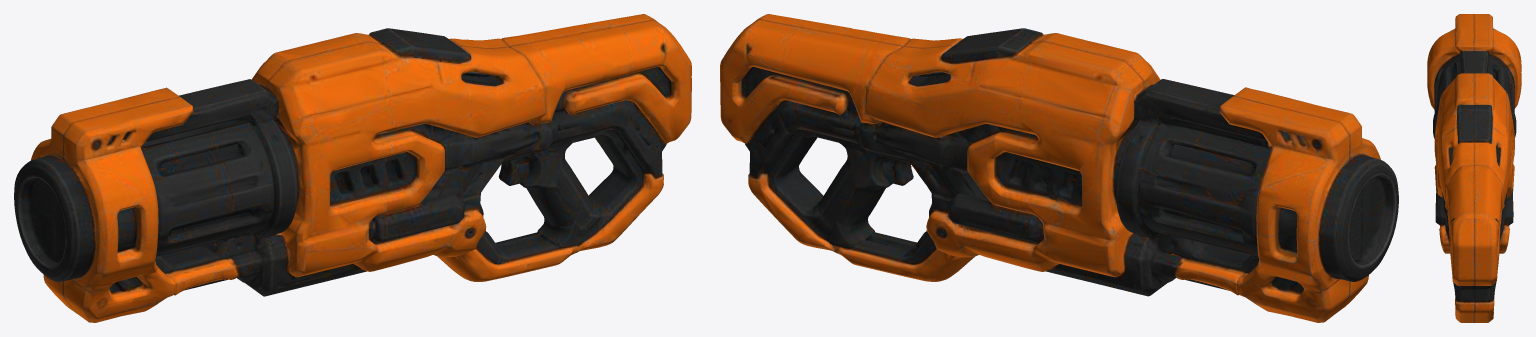
Rendered from launcher.glb.
3 renders of one model, left to right at view 1: azimuth 30°, elevation 25°; view 2: azimuth 150°, elevation 25°; view 3: azimuth 270°, elevation 25°, orthographic. The views are drawn at different scales.
Visible parts, largest first — view 1: mesh_node; view 2: mesh_node; view 3: mesh_node.
Boxes of the visible parts, <box> form: mesh_node: <box>14,14,691,322</box>; mesh_node: <box>720,14,1398,322</box>; mesh_node: <box>1427,14,1521,322</box>.
Size of the model in its own units: 1.9 by 0.7396 by 0.3942.
1 material, 1 textured.
